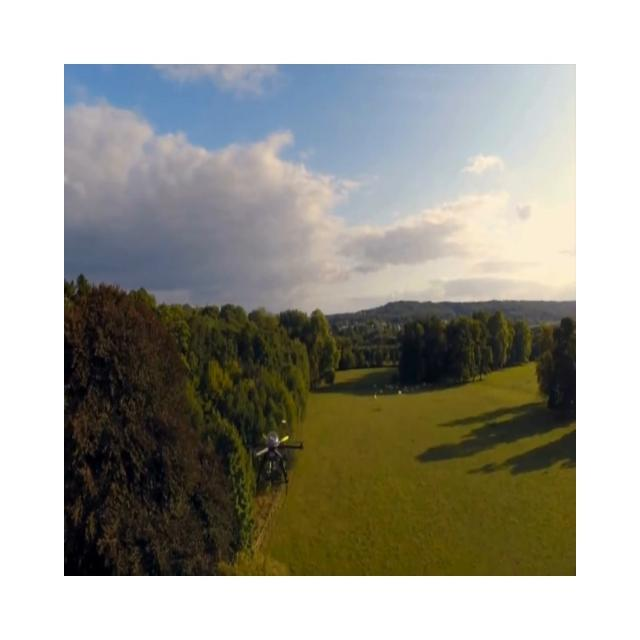drone: (246, 418, 304, 495)
